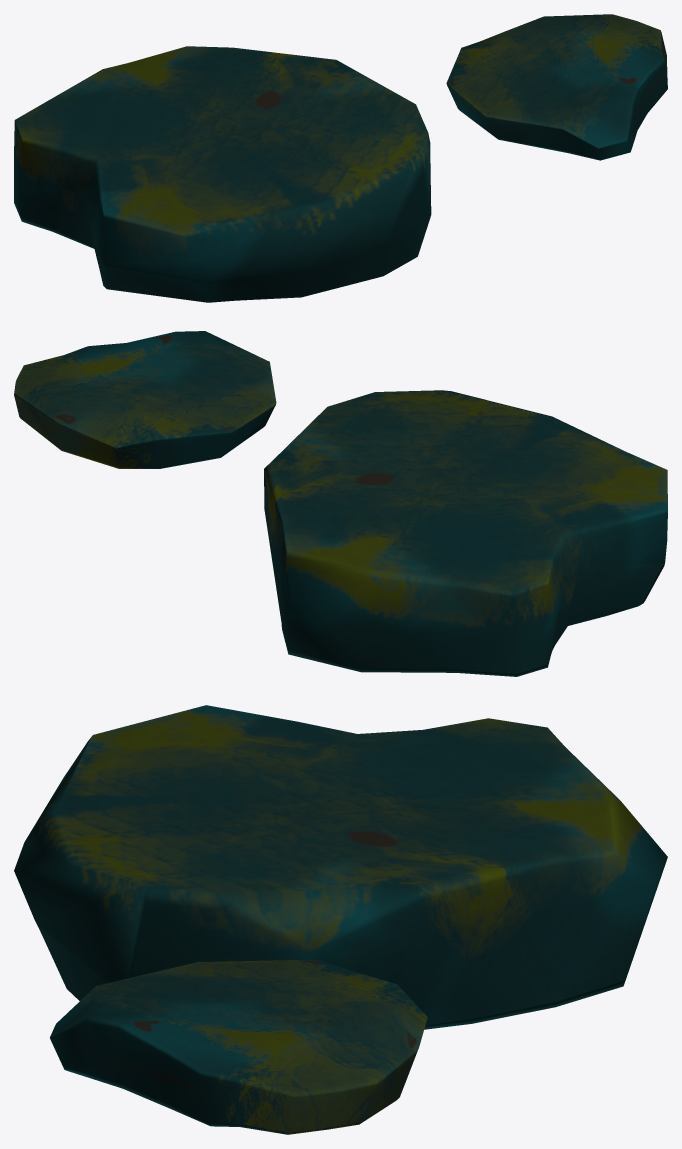
The model's file is stone03.fbx.
The picture shows the model from 3 angles, top to bottom: view 1: azimuth 30°, elevation 25°; view 2: azimuth 150°, elevation 25°; view 3: azimuth 270°, elevation 25°; orthographic projection. The views are drawn at different scales.
Parts seen in each view (by area): view 1: stone01, stone04; view 2: stone01, stone04; view 3: stone01, stone04.
Boxes of the visible parts, x1,y1,x2,y2 form: stone01: (14,46,431,302); stone04: (446,14,667,160); stone01: (264,390,667,676); stone04: (14,331,276,468); stone01: (14,705,667,1029); stone04: (50,959,427,1134).
Bounding box in the file's own units: 5.72 × 1.06 × 3.8.
1 material, 1 textured.
